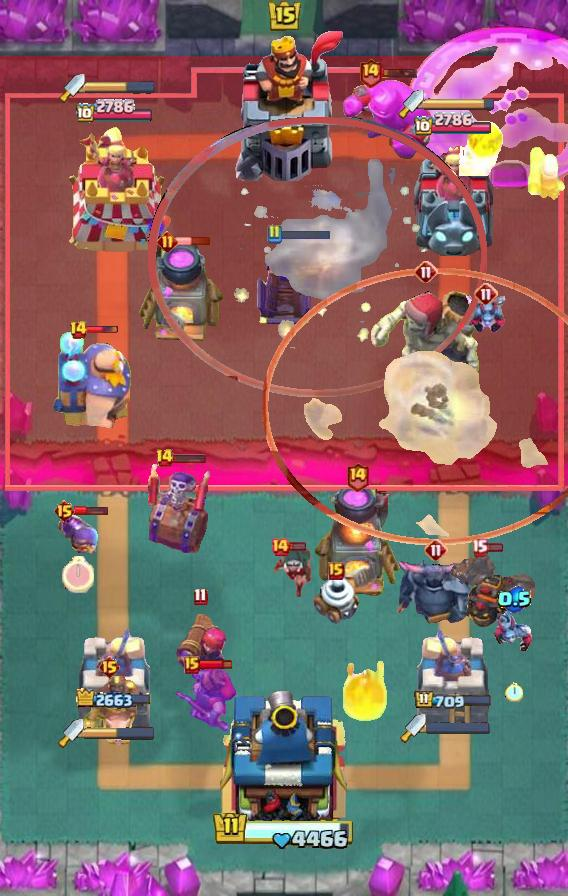archer-evolution: (445, 550, 535, 630)
bar: (55, 126, 173, 256), (409, 142, 497, 256), (75, 623, 153, 731), (414, 623, 492, 731)
clock: (212, 810, 356, 852)
clone: (338, 77, 440, 161)
electro-giant: (368, 288, 484, 398)
electro-spirit: (497, 587, 532, 614)
elixir: (62, 555, 94, 593), (505, 682, 523, 702)
elixir-golem-big: (174, 667, 236, 733)
emote: (279, 228, 331, 241), (199, 657, 234, 670), (381, 67, 418, 79), (171, 452, 207, 464), (75, 504, 110, 515), (176, 236, 211, 246), (85, 325, 119, 335), (288, 540, 308, 552), (484, 542, 503, 553)
firecracker-evolution: (57, 512, 99, 555)
freeze: (76, 676, 142, 748)
goblin-drill: (311, 569, 361, 625)
golemite: (394, 557, 478, 629)
hunter: (135, 237, 225, 345), (313, 489, 401, 599)
ice-spirit-evolution-symbol: (254, 234, 314, 326)
king-tower: (214, 684, 354, 826), (223, 31, 345, 181)
king-tower-bar: (424, 97, 496, 111), (84, 726, 156, 740), (85, 81, 155, 95), (426, 722, 490, 734)
knight-evolution: (405, 27, 568, 190)
little-prince: (48, 330, 136, 430)
mega-minion: (172, 610, 228, 682)
royal-delivery: (492, 610, 536, 656), (465, 295, 507, 333)
royal-ghost: (148, 117, 487, 397), (262, 267, 568, 545)
selected: (74, 99, 154, 125), (413, 112, 493, 138), (75, 688, 152, 712), (414, 689, 494, 711)
skeleton-king-bar: (144, 459, 210, 553)
tesla: (271, 545, 315, 601)
text: (357, 56, 382, 87), (346, 461, 371, 491), (414, 260, 438, 284), (474, 282, 498, 306), (424, 538, 448, 562), (52, 499, 75, 523), (99, 655, 122, 679), (158, 231, 179, 252), (68, 320, 88, 340), (270, 537, 290, 557), (154, 448, 173, 468), (266, 224, 282, 244), (471, 539, 488, 557), (328, 562, 344, 580), (184, 656, 200, 674), (193, 587, 208, 606)
tombstone: (526, 144, 568, 202)
valkyrie: (335, 655, 391, 725), (459, 120, 507, 176)
